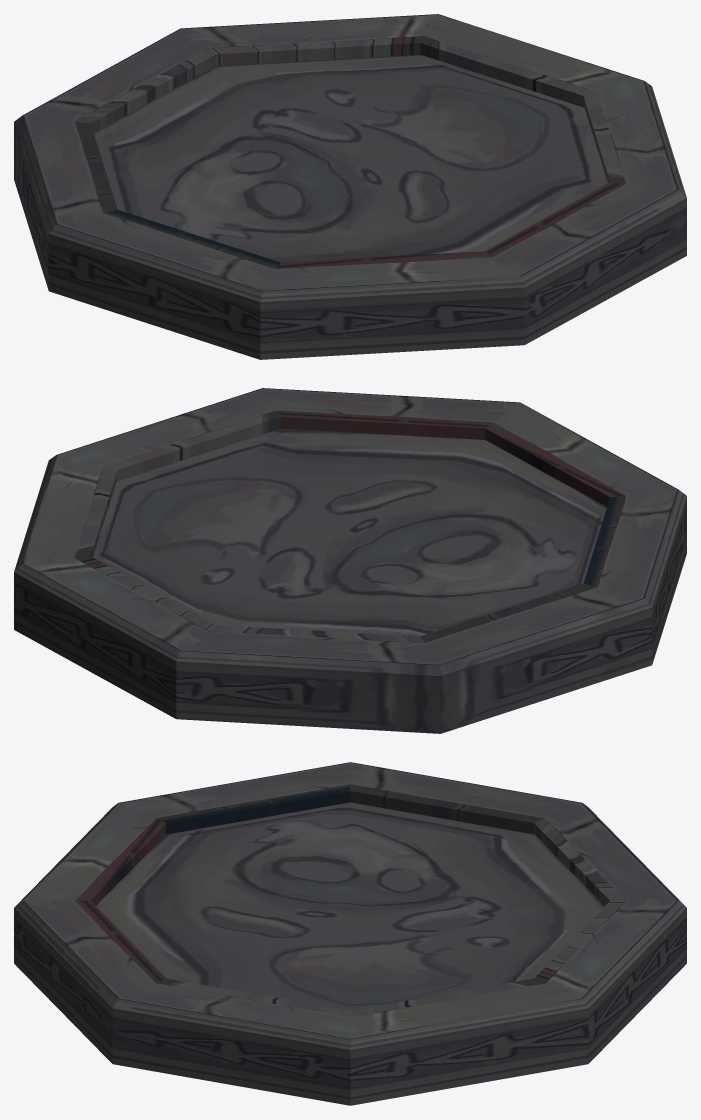
File: Round_Decor_02.glb
3 views of the same model, one above another, from view 1: azimuth 30°, elevation 25°; view 2: azimuth 150°, elevation 25°; view 3: azimuth 270°, elevation 25° (orthographic). The views are drawn at different scales.
Visible parts, largest first — view 1: Circle; view 2: Circle; view 3: Circle.
Boxes of the visible parts, <box> form: Circle: <box>14,14,686,359</box>; Circle: <box>14,388,686,733</box>; Circle: <box>14,762,686,1105</box>.
Size of the model in its own units: 4.95 by 0.5091 by 4.95.
Materials: 1 (1 with a texture image).
